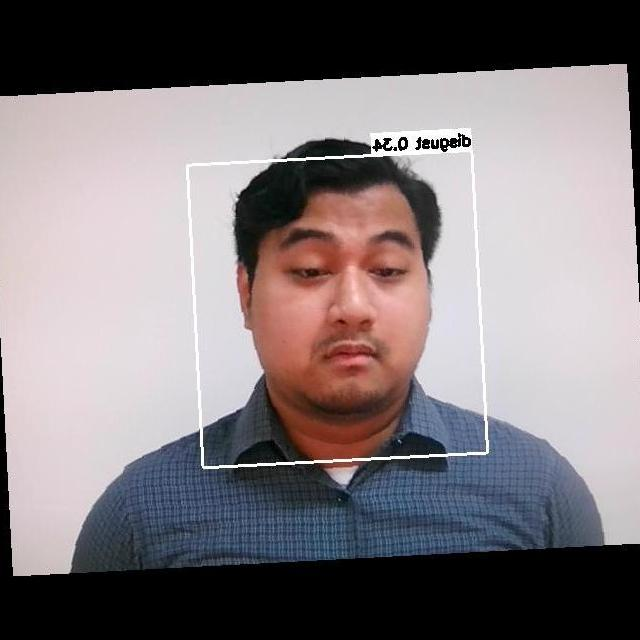Fear: (239, 203, 438, 389)
